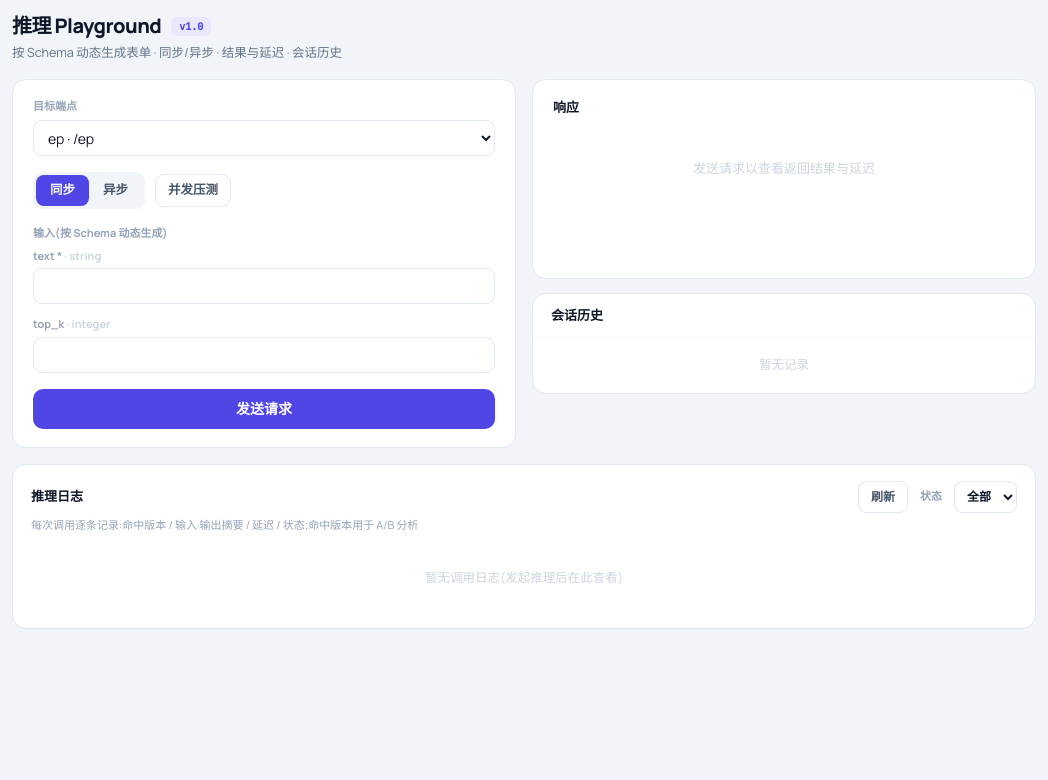
Test: PlaygroundPage 接通推理 API › 异步模式提交后轮询至终态再展示结果
The image size is (1048, 780).
Expected: the field with test id "pg-field-text" is shown, [33,268,495,304]
Step 1. Click the button "异步" → (116, 191), box [89,175,142,206]
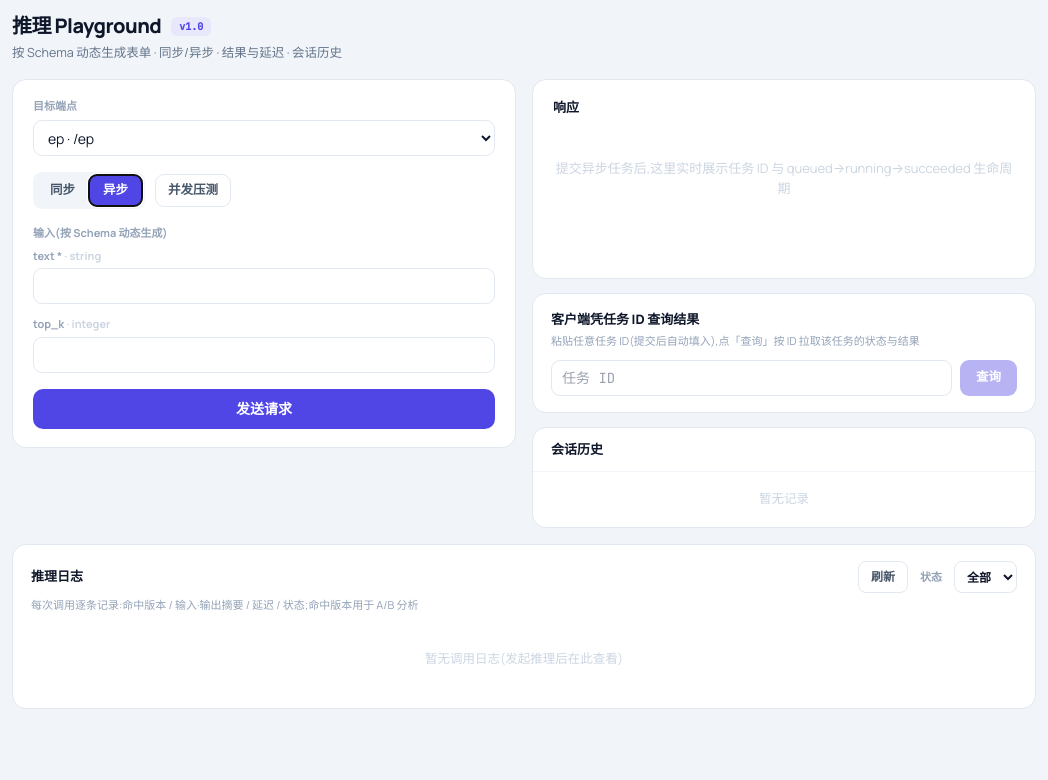
Step 2. Type "hi" into the field with test id "pg-field-text" → (264, 286), box [33,268,495,304]
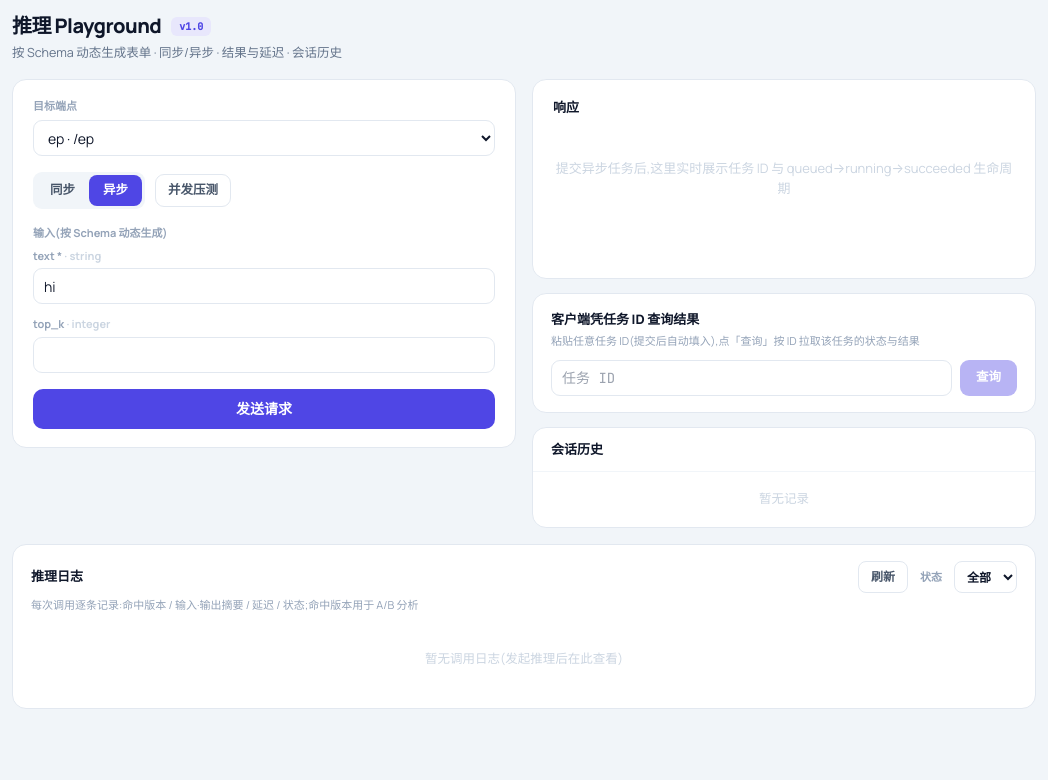
Step 3. Click the button "发送请求" → (264, 408), box [33,388,495,428]
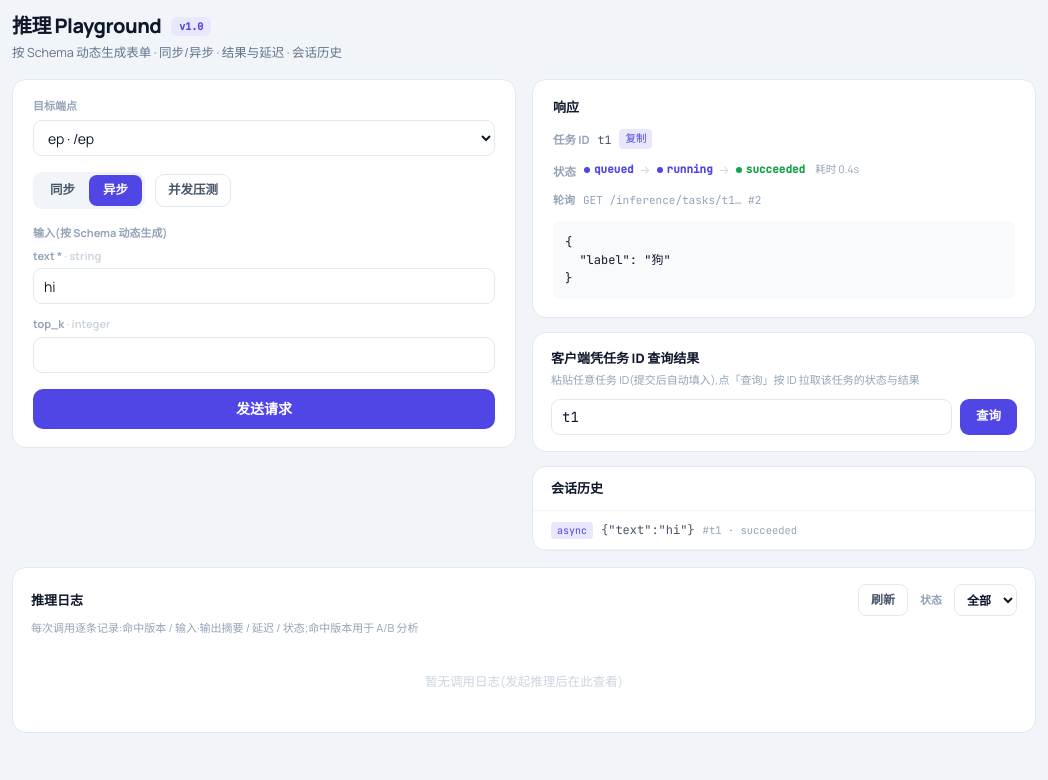
Now the text with test id "pg-result" shows "狗", box [565,234,671,286]
